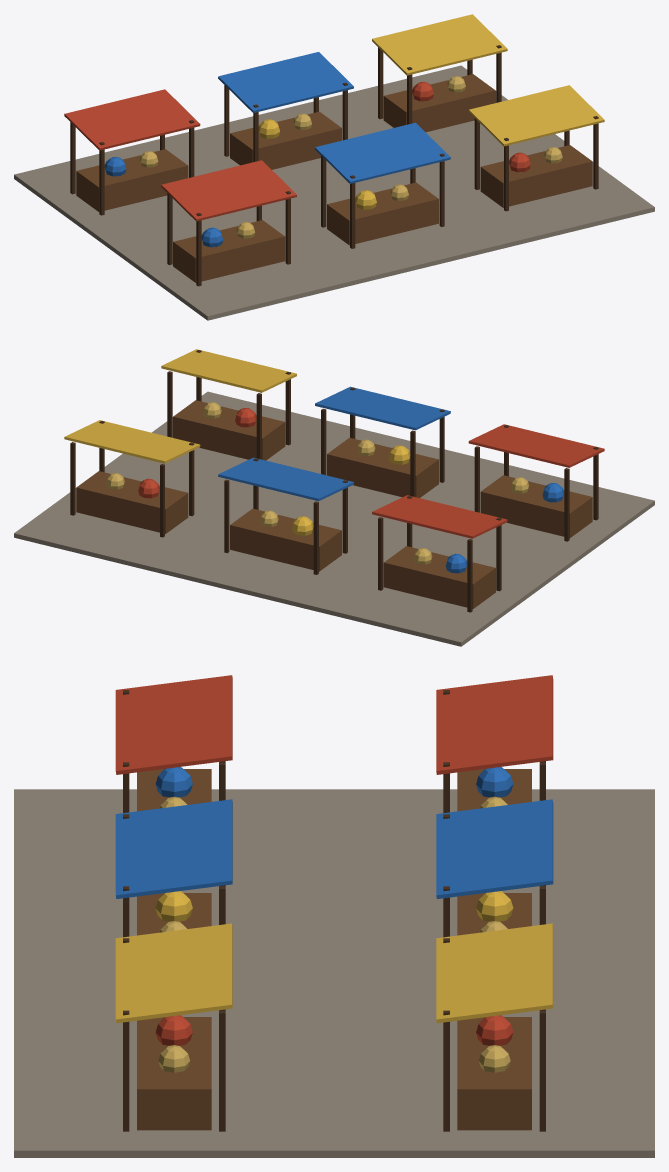
Rendered from market.glb.
3 renders of one model, top to bottom at view 1: azimuth 30°, elevation 25°; view 2: azimuth 150°, elevation 25°; view 3: azimuth 270°, elevation 25°, orthographic. The views are drawn at different scales.
Parts seen in each view (by area): view 1: Market; view 2: Market; view 3: Market.
Part boxes in pixels (x1,y1,x2,y2): Market: [14, 14, 654, 320]; Market: [14, 349, 654, 646]; Market: [14, 675, 654, 1157].
Bounding box in the file's own units: 16 × 2.84 × 12.
